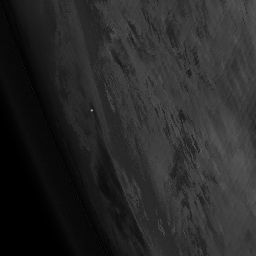Target: (89, 107, 95, 113)
